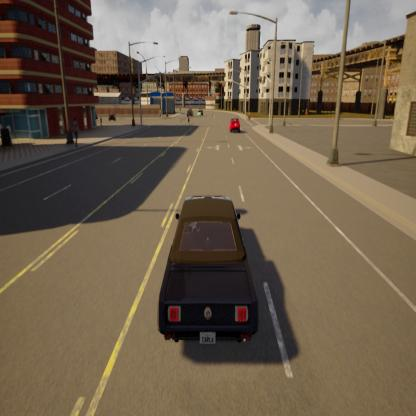Cars: (149, 180, 272, 351), (228, 112, 244, 136), (185, 105, 196, 120), (107, 109, 118, 124), (197, 104, 205, 123)
Pedestrian: (68, 109, 82, 152), (100, 116, 104, 129)
